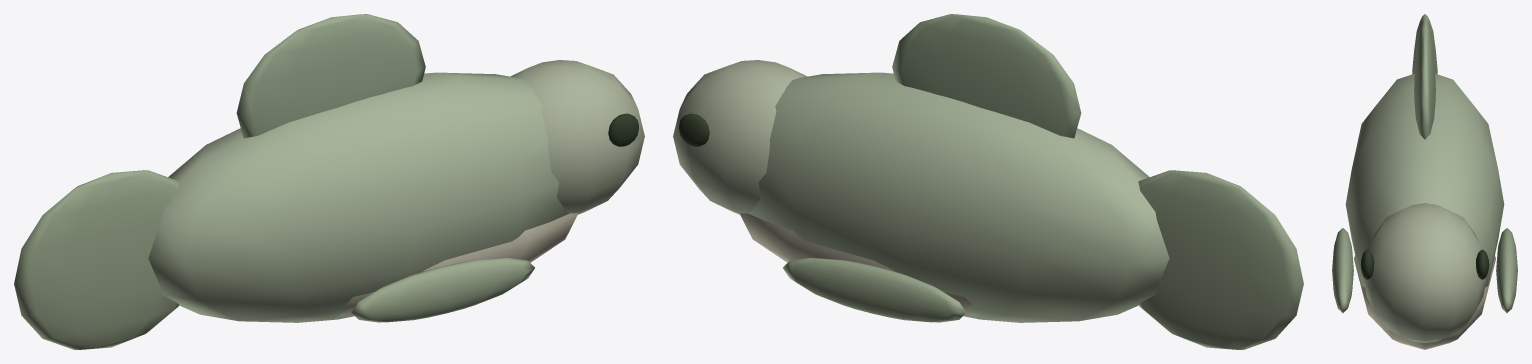
Rendered from cuncun_carp_v1.gltf.
3 renders of one model, left to right at view 1: azimuth 30°, elevation 25°; view 2: azimuth 150°, elevation 25°; view 3: azimuth 270°, elevation 25°, orthographic. The views are drawn at different scales.
Parts seen in each view (by area): view 1: carp; view 2: carp; view 3: carp.
Boxes of the visible parts, x1,y1,x2,y2 form: carp: [14, 14, 644, 349]; carp: [673, 14, 1303, 349]; carp: [1332, 14, 1517, 349].
Bounding box in the file's own units: 2.24 × 1.03 × 0.68.
